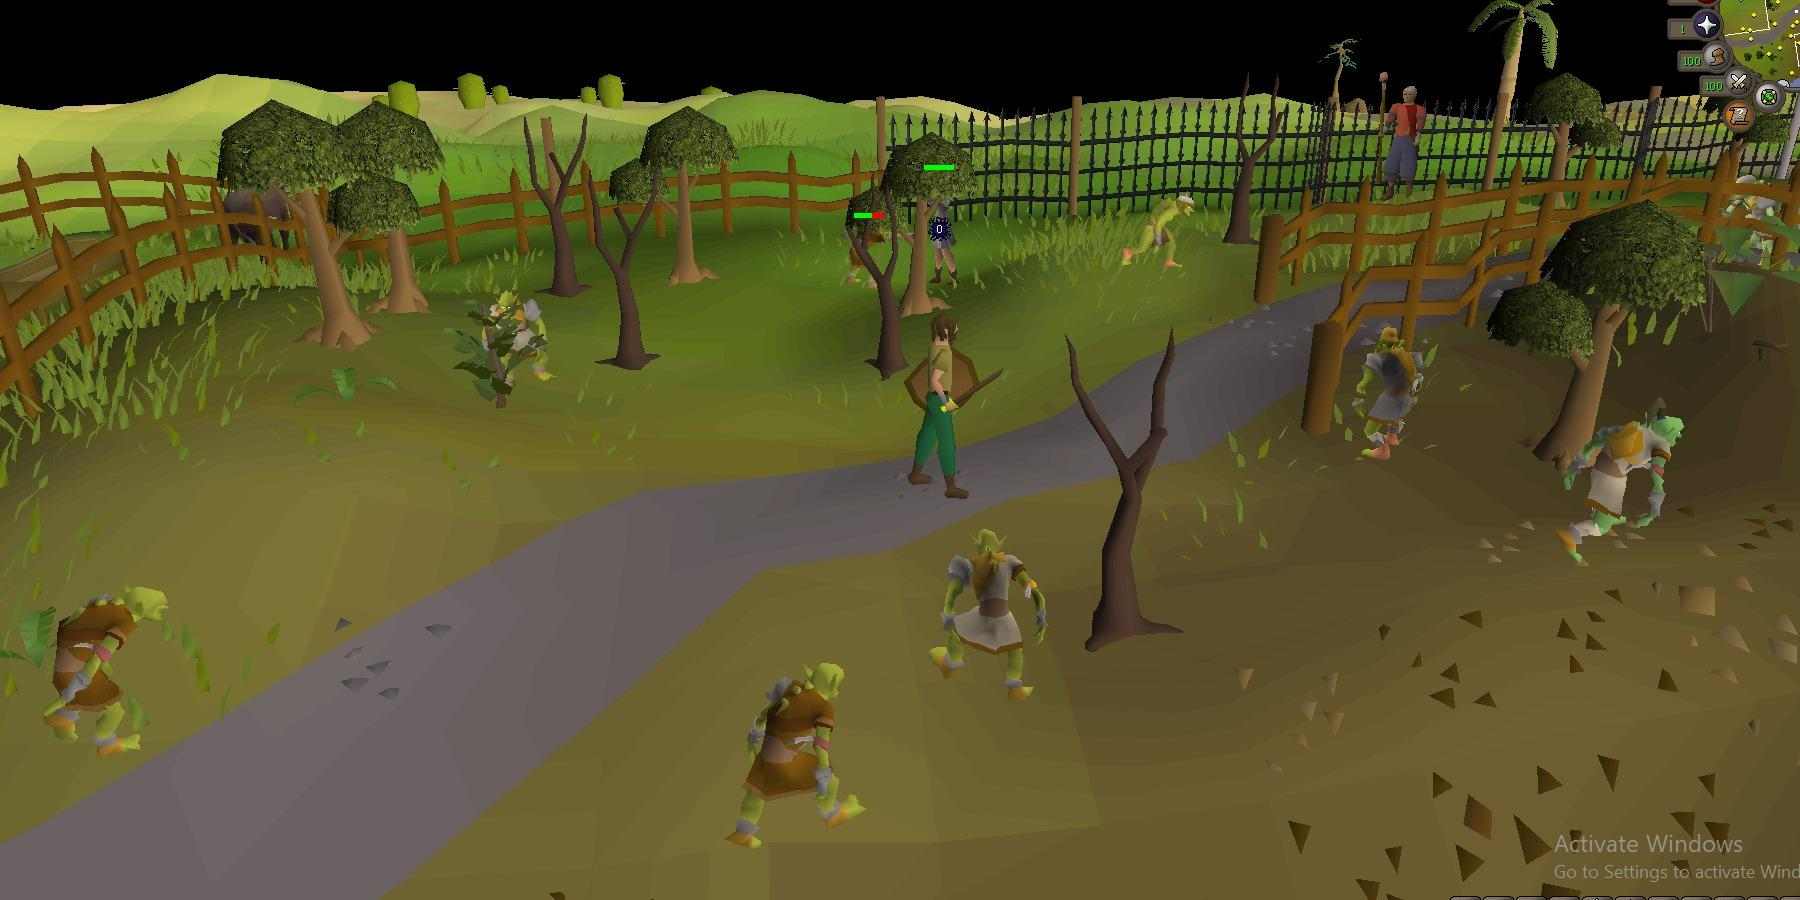goblin: (726, 658, 870, 851), (42, 585, 171, 758), (929, 528, 1049, 703), (1554, 408, 1684, 562), (1349, 328, 1433, 460), (479, 290, 558, 385), (1119, 193, 1196, 267), (835, 224, 911, 290)
